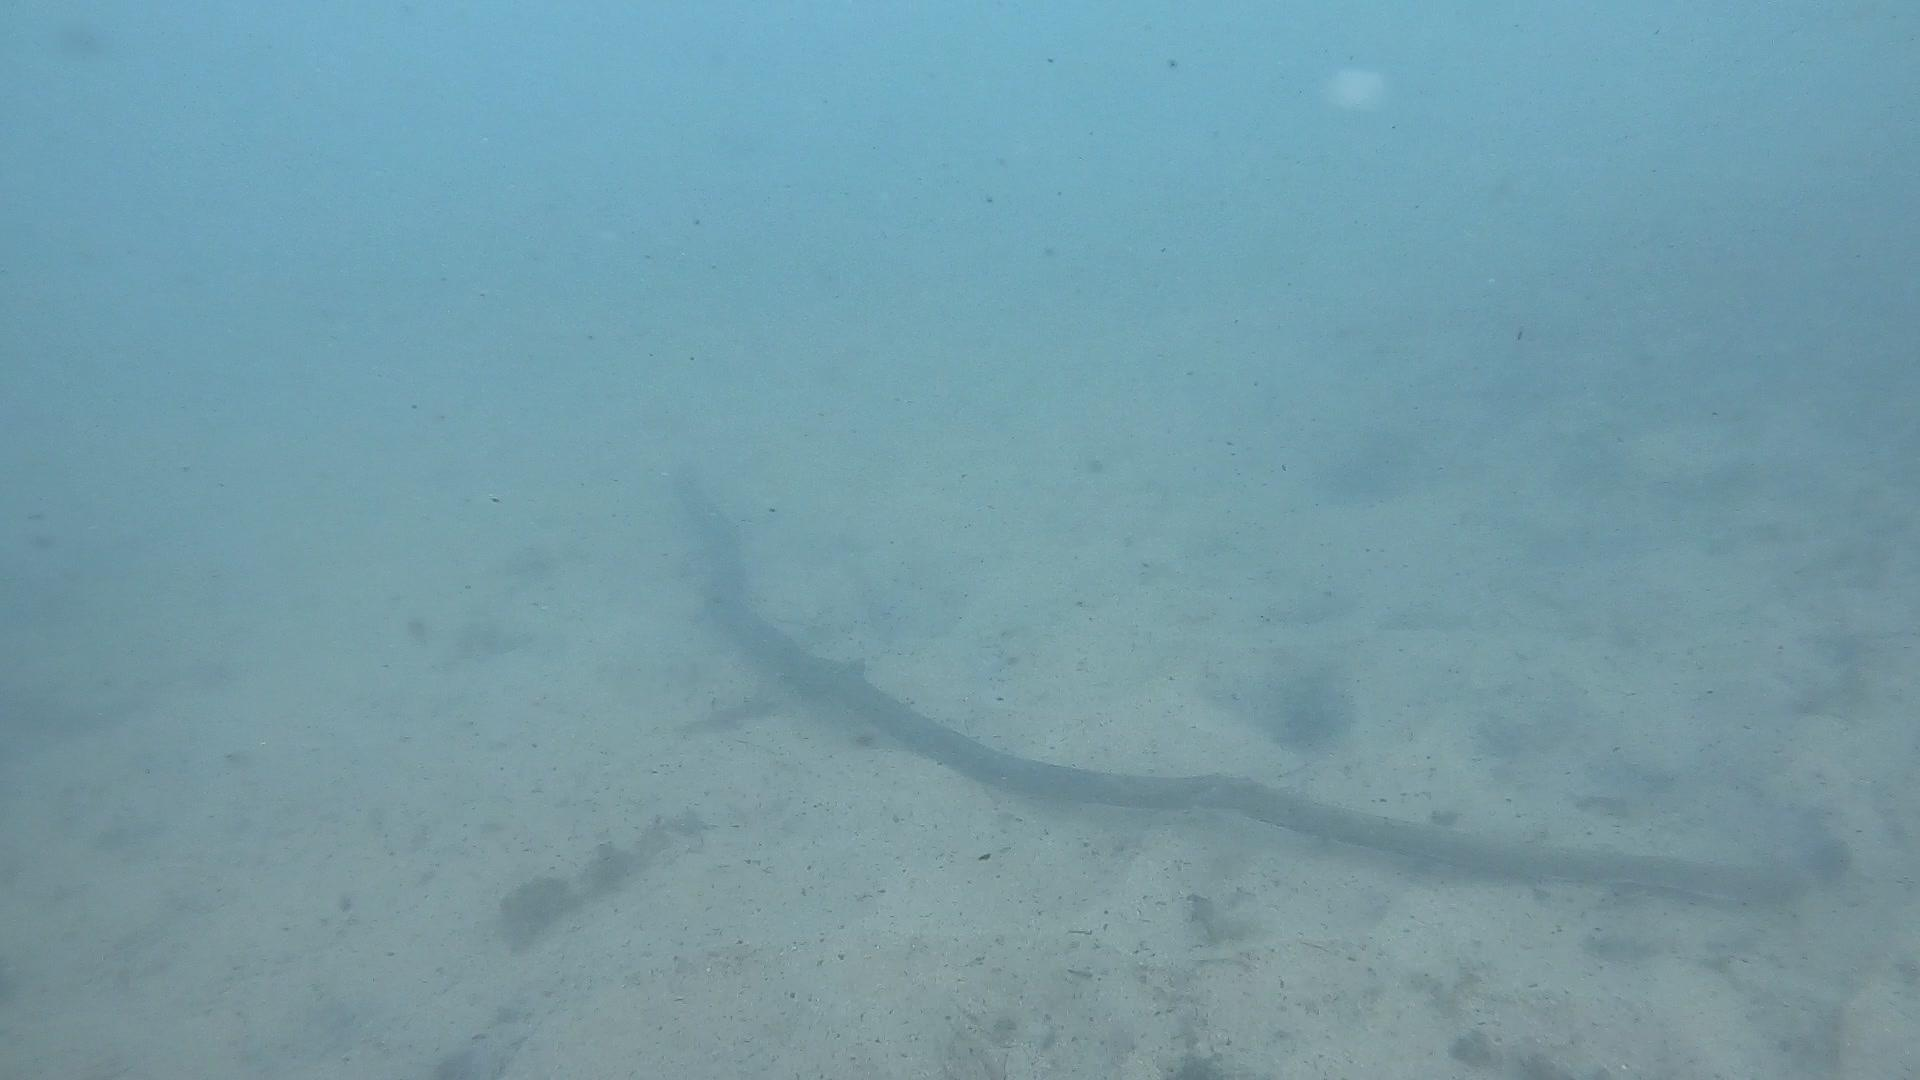wood: (670, 469, 1783, 909)
